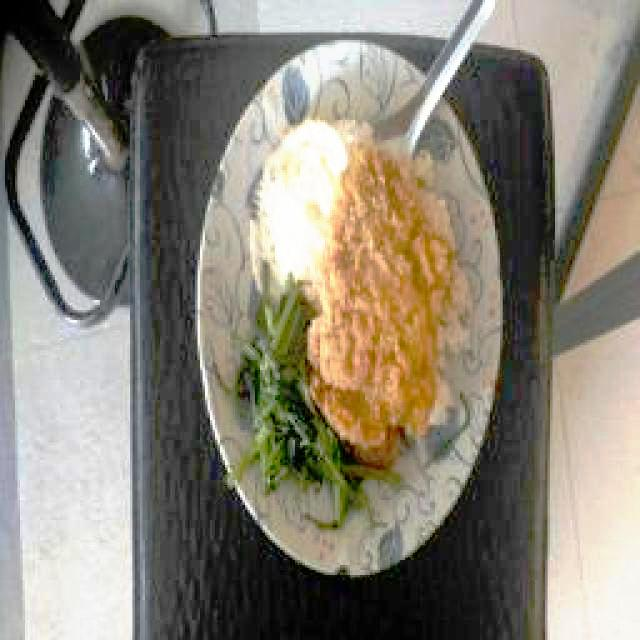fried_chicken: (305, 148, 448, 453)
rice: (255, 118, 373, 275)
water_spinach: (212, 260, 388, 530)
